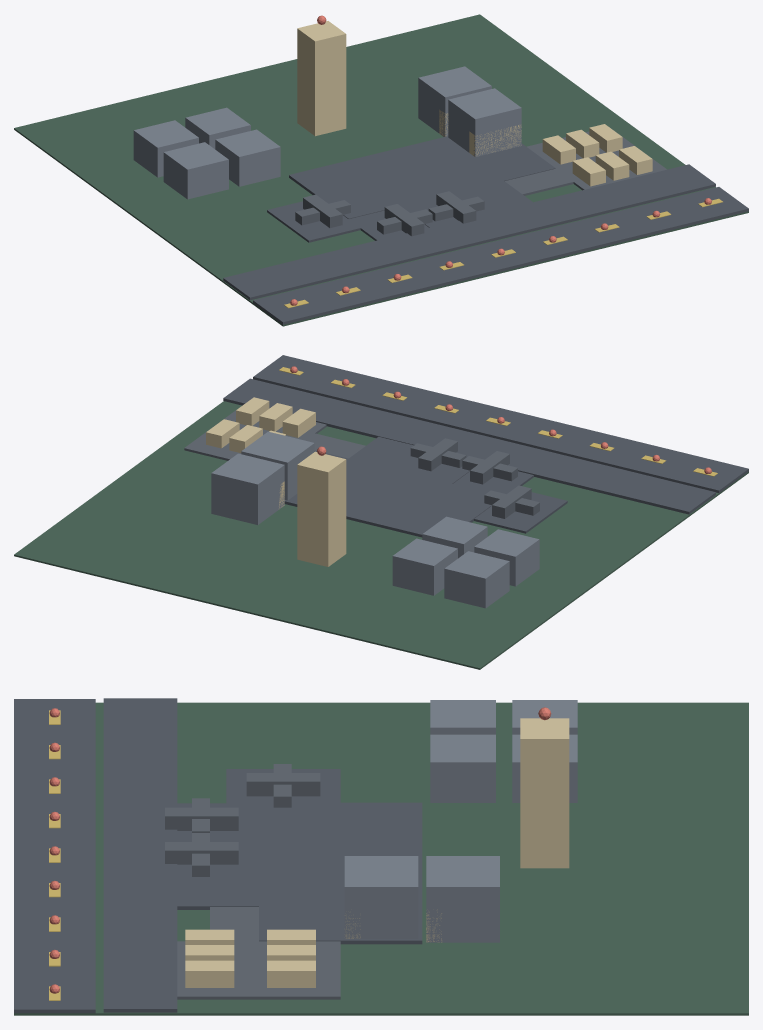
Rendered from stage_18.glb.
3 renders of one model, top to bottom at view 1: azimuth 30°, elevation 25°; view 2: azimuth 150°, elevation 25°; view 3: azimuth 270°, elevation 25°, orthographic. The views are drawn at different scales.
Parts seen in each view (by area): view 1: geometry_0; view 2: geometry_0; view 3: geometry_0.
Boxes of the visible parts, x1,y1,x2,y2 form: geometry_0: (14, 14, 748, 326); geometry_0: (14, 355, 748, 669); geometry_0: (14, 698, 748, 1015).
Bounding box in the file's own units: 9 × 2.06 × 9.
